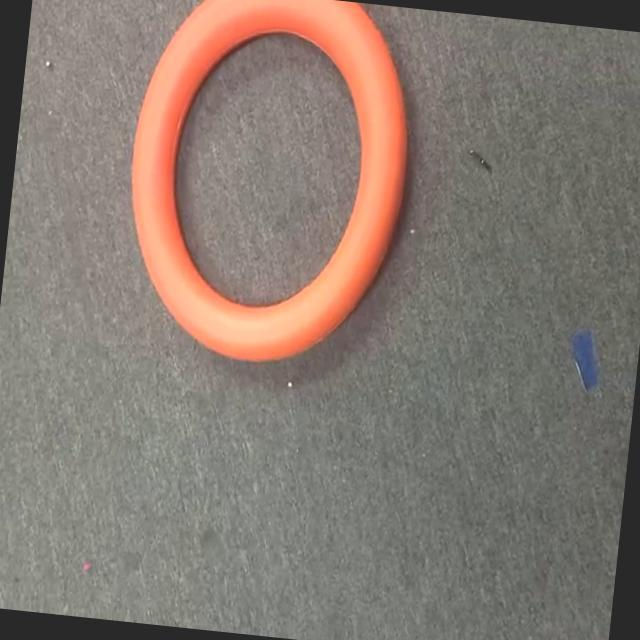note: (100, 0, 438, 388)
